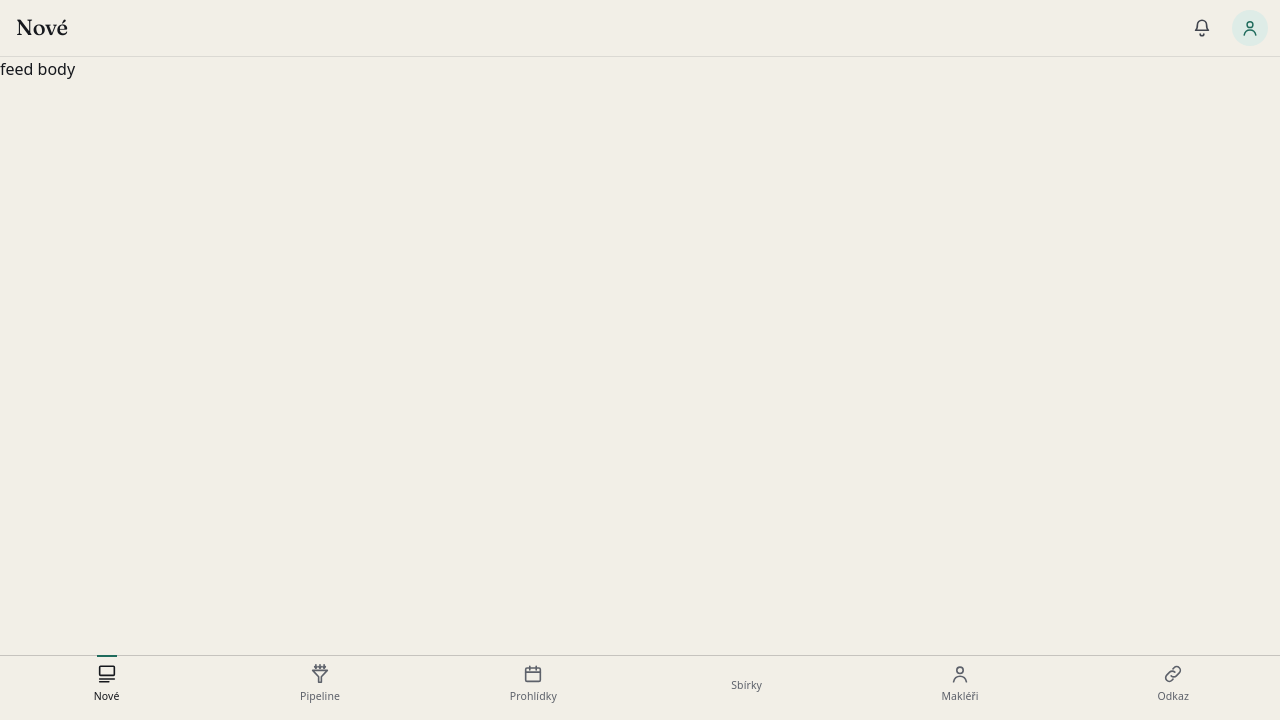
it: phone frame › opens the account sheet with the theme, the push switch, the desktop view and sign-out
What coordinates should you click on to do the following:
click the button named "Účet"
I would click on:
 (1250, 28)
Its box is [1232,10,1268,46].
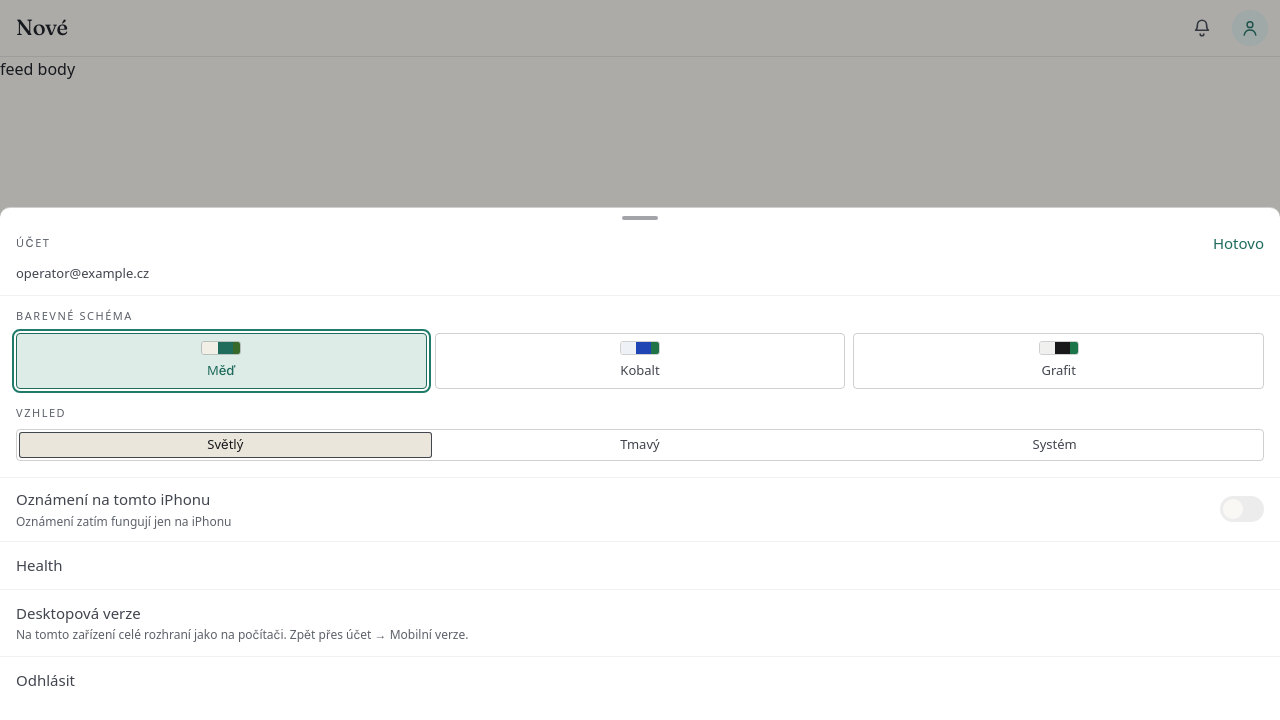
Now the text "operator@example.cz" is shown, box [16,264,149,283]
Now the button "Světlý" is shown, box [19,432,432,458]
Now the switch labelled "Oznámení na tomto iPhonu" is disabled, box [0,478,1279,542]
